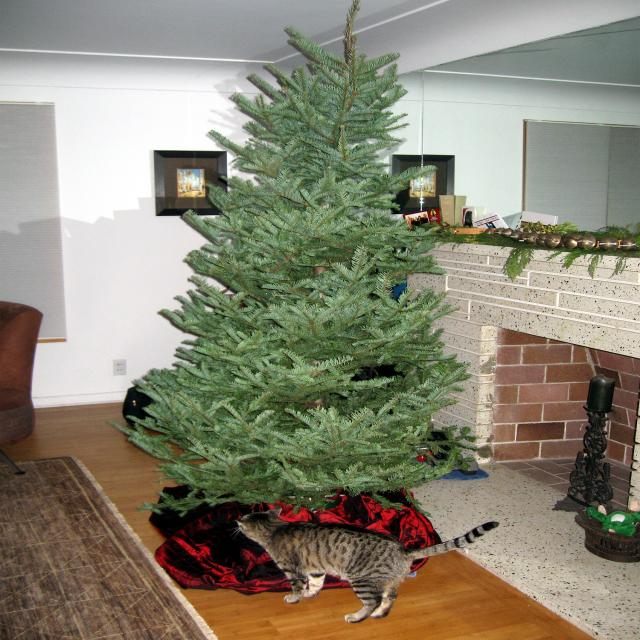Christmas-tree: (143, 24, 478, 491)
